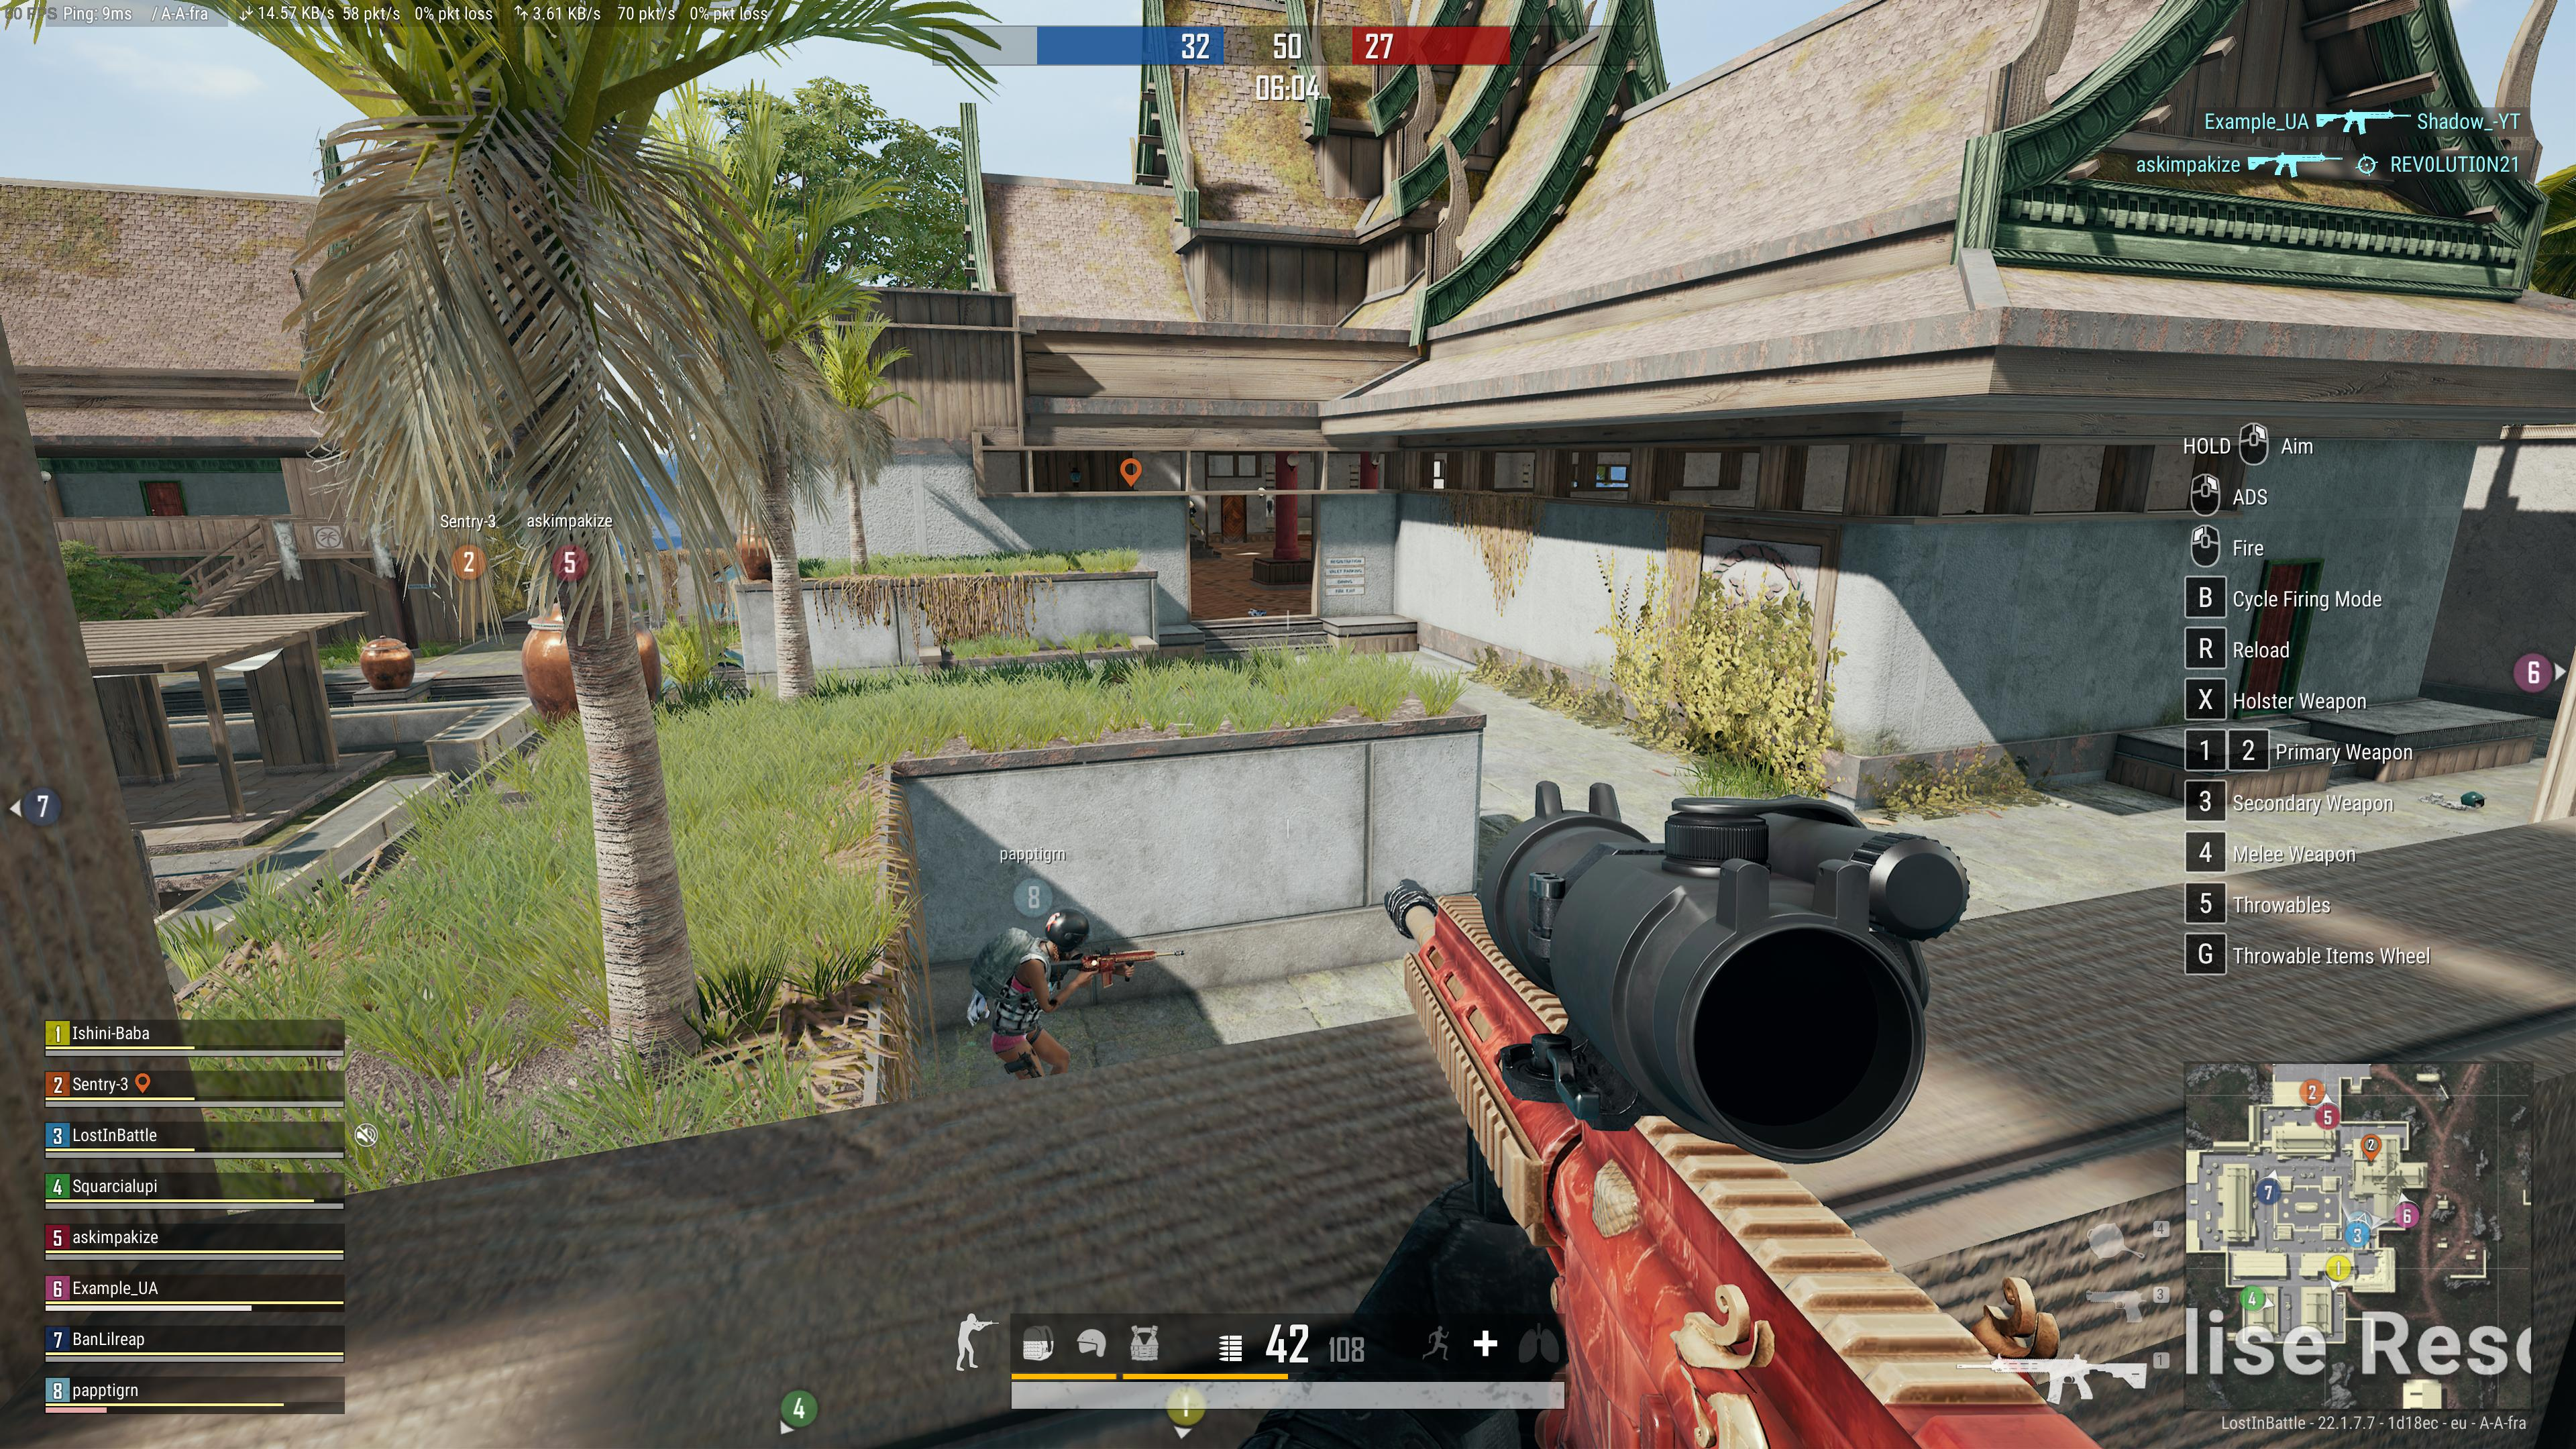enemy: (1189, 495, 1205, 536)
friendly: (975, 893, 1136, 1072)
